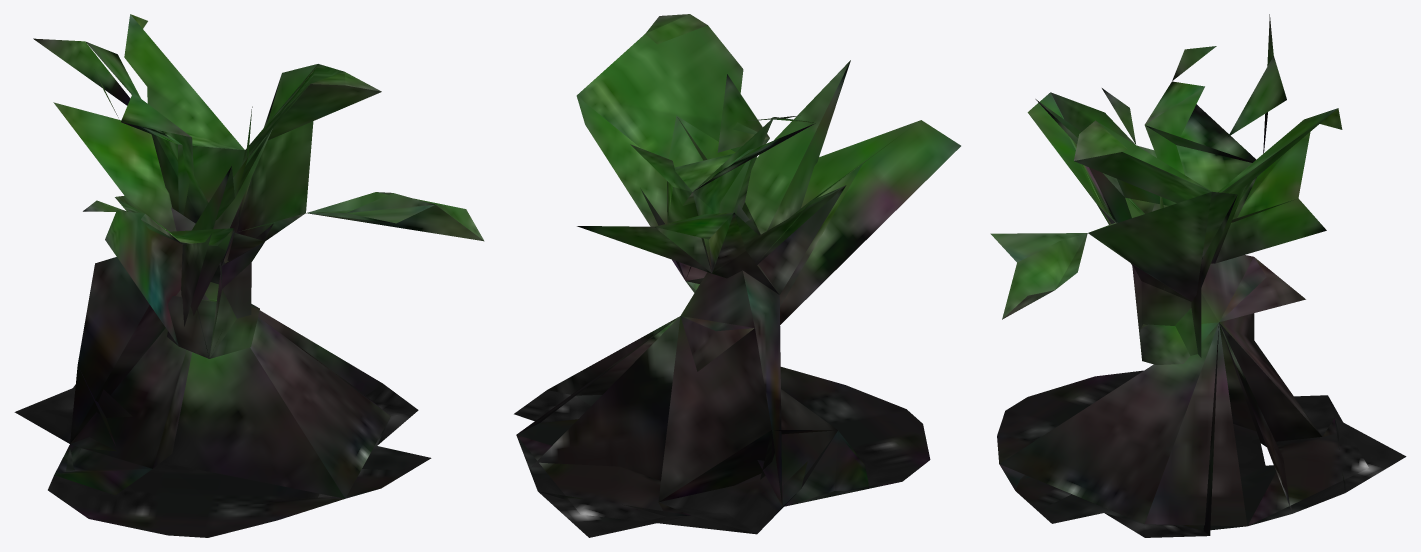
The model's file is alien_plant_1225099865_lod1.glb.
The picture shows the model from 3 angles, left to right: view 1: azimuth 30°, elevation 25°; view 2: azimuth 150°, elevation 25°; view 3: azimuth 270°, elevation 25°; orthographic projection. The views are drawn at different scales.
Size of the model in its own units: 2.01 by 2.17 by 2.11.
Materials: 1 (1 with a texture image).
